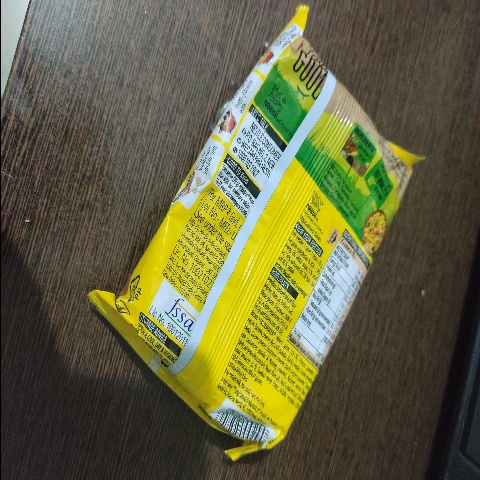maggi: (70, 8, 410, 455)
